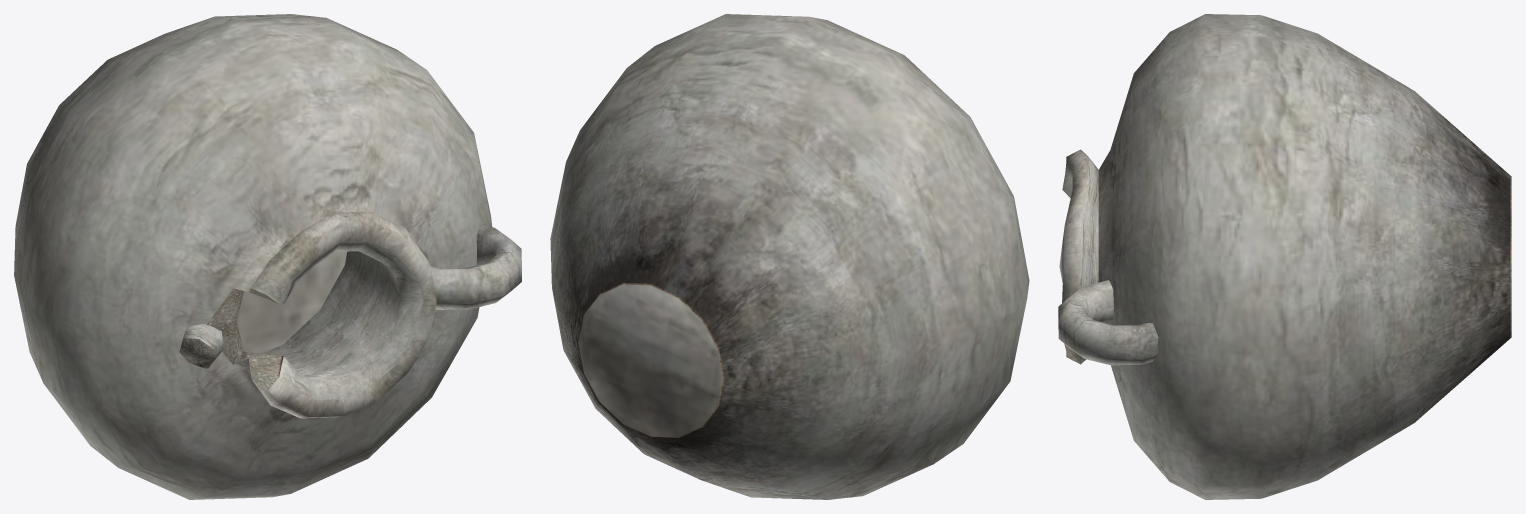
The model's file is egypt_prop_vase6_interior.glb.
3 views of the same model, side by side, from view 1: azimuth 30°, elevation 25°; view 2: azimuth 150°, elevation 25°; view 3: azimuth 270°, elevation 25° (orthographic). The views are drawn at different scales.
Size of the model in its own units: 42.24 by 42.24 by 39.32.
Materials: 1 (1 with a texture image).
